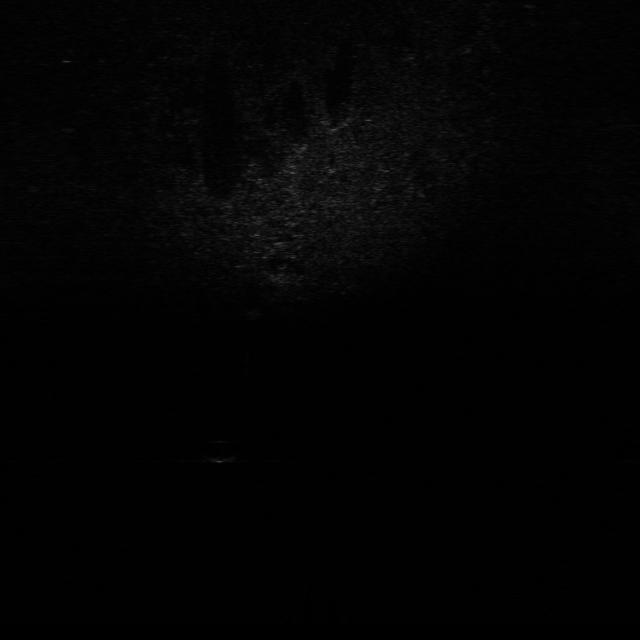ball: (201, 433, 243, 467)
